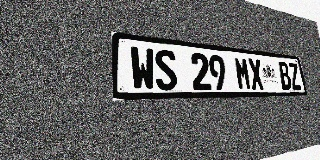2: (190, 52, 211, 90)
9: (208, 54, 228, 90)
B: (277, 61, 292, 90)
M: (234, 57, 252, 90)
S: (154, 49, 178, 90)
W: (130, 46, 156, 90)
X: (247, 58, 265, 90)
Z: (287, 62, 302, 90)
